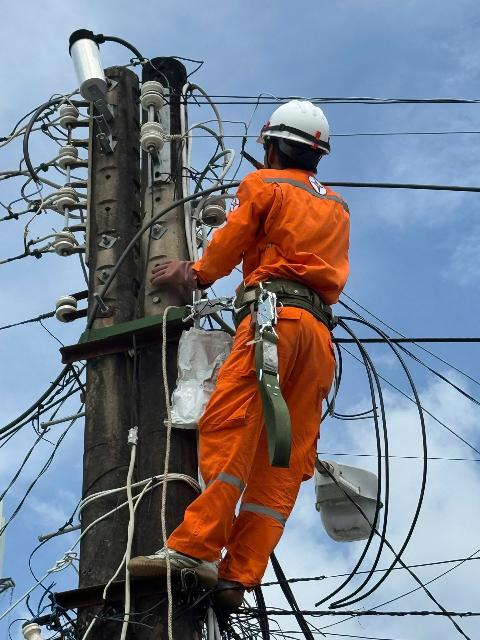gloves: (136, 254, 210, 298)
harness: (211, 255, 344, 335)
helmet: (254, 94, 336, 167)
shoes: (111, 539, 232, 603)
